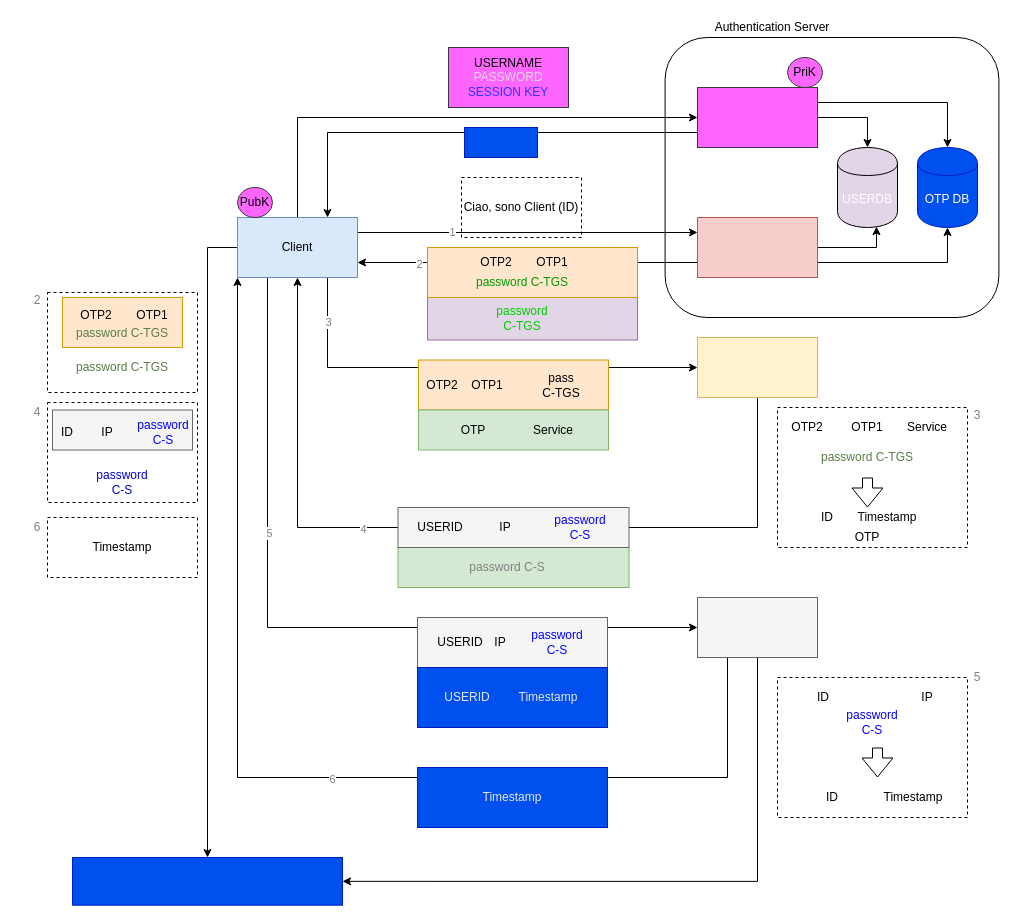
Some shapes in this 1016 by 923 pixel diagram are drawn without their labels. Here are the shapes that lost their labels. From the top down, the centre of each, then its label:
At pixel 757 117: "Registration".
At pixel 501 142: "OTP configuration".
At pixel 757 247: "Auth".
At pixel 757 367: "TGS".
At pixel 757 627: "Server".
At pixel 207 880: "Comunicazione con password C-S per ottenere i servizi".
